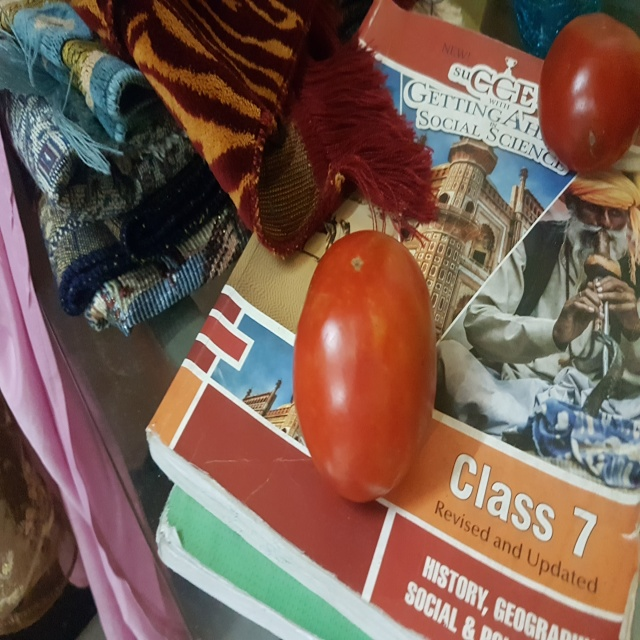tomato: (287, 227, 448, 504), (535, 5, 640, 179)
